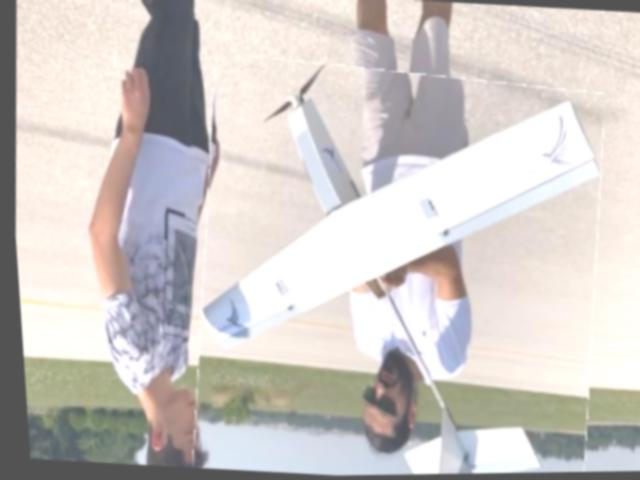insansiz-hava-araci: (168, 51, 620, 478)
